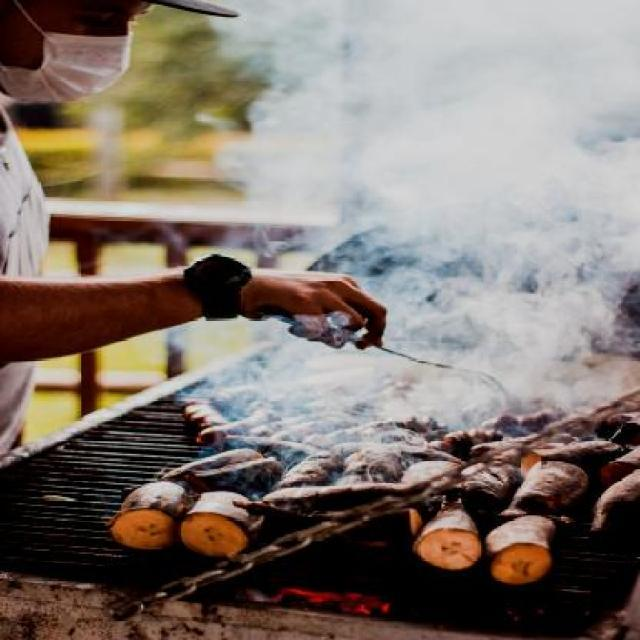Smoke: (184, 0, 640, 460)
